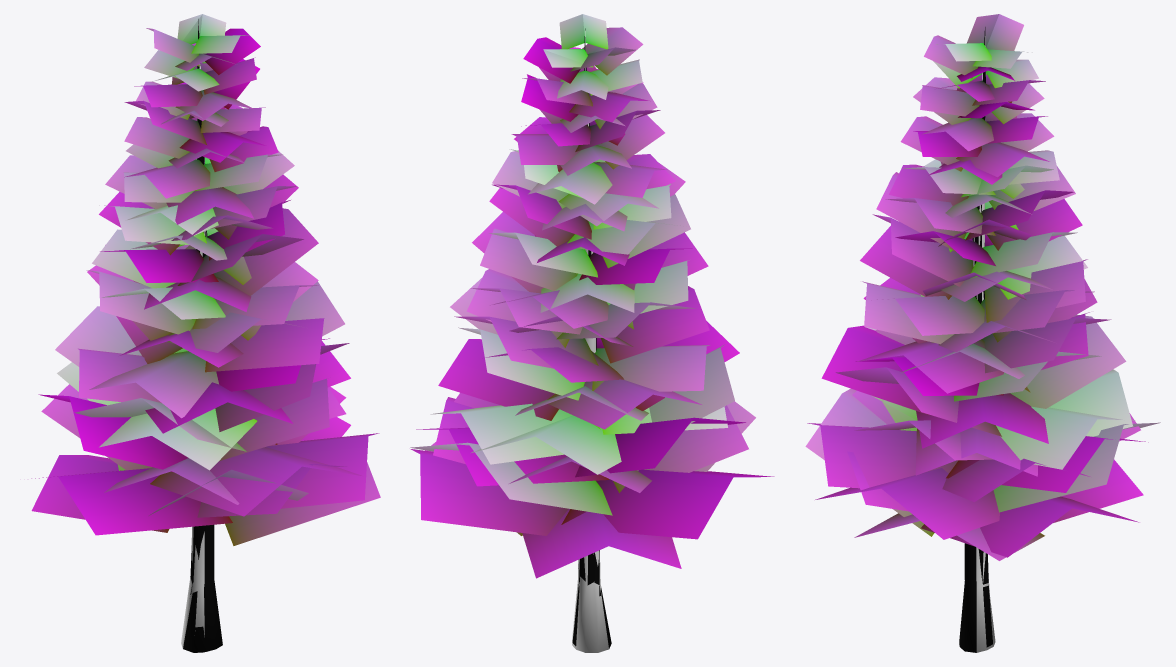
File: fir_01_15m_a.dae
The picture shows the model from 3 angles, left to right: view 1: azimuth 30°, elevation 25°; view 2: azimuth 150°, elevation 25°; view 3: azimuth 270°, elevation 25°; orthographic projection.
Visible parts, largest first — view 1: fir128, colmesh-1; view 2: fir128, colmesh-1; view 3: fir128, colmesh-1.
Part boxes in pixels (left/top/right/bottom): fir128: left=31, top=14, right=380, bottom=652; colmesh-1: left=181, top=24, right=206, bottom=648; fir128: left=410, top=14, right=774, bottom=648; colmesh-1: left=572, top=31, right=608, bottom=652; fir128: left=805, top=14, right=1160, bottom=652; colmesh-1: left=973, top=36, right=995, bottom=652.
Bounding box in the file's own units: 7.9 × 7.82 × 15.2.
